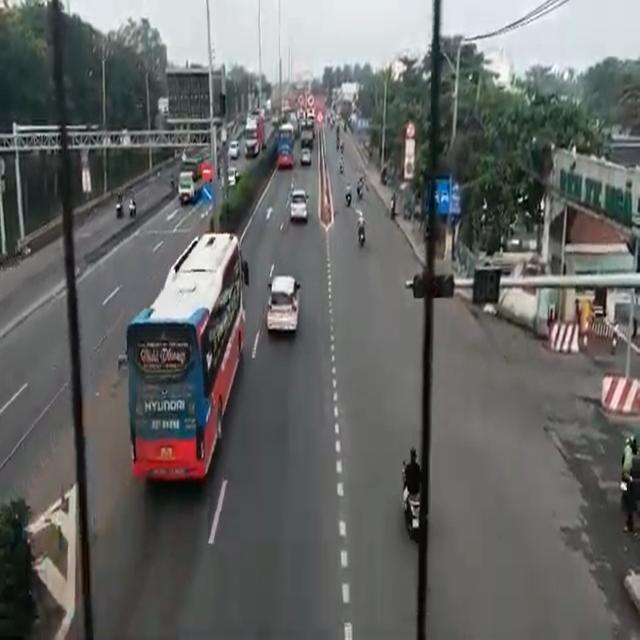bus: (126, 236, 240, 493), (276, 125, 295, 170)
car: (267, 275, 301, 336), (292, 190, 308, 224), (303, 145, 309, 167)
motor: (398, 449, 418, 534), (354, 208, 368, 245)
truck: (178, 163, 201, 215)
